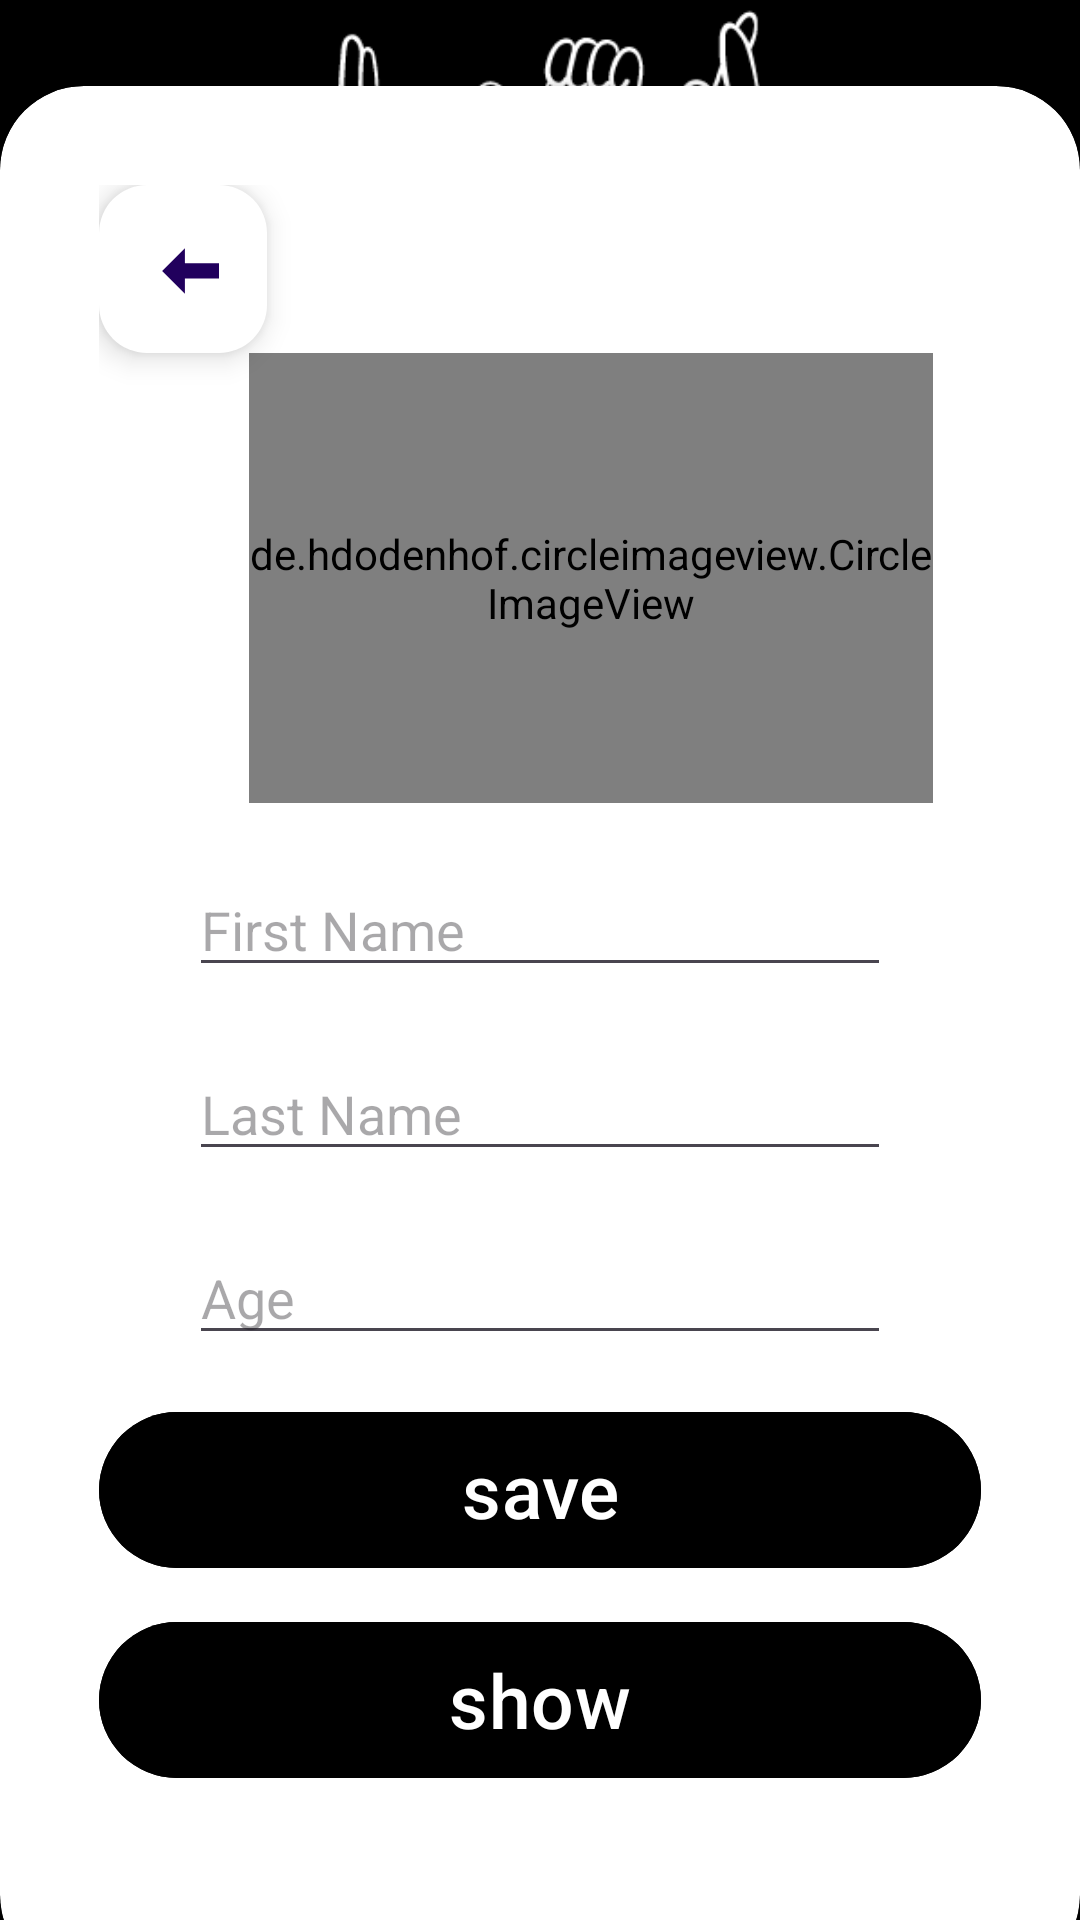

Locate icon controls on the screen. Image size 1080px×1920px, boxes as (x1, y1, x2, y2).
arrow back: (99, 204, 245, 353)
